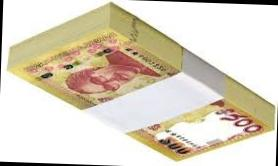200 tk: (10, 74, 278, 156)
